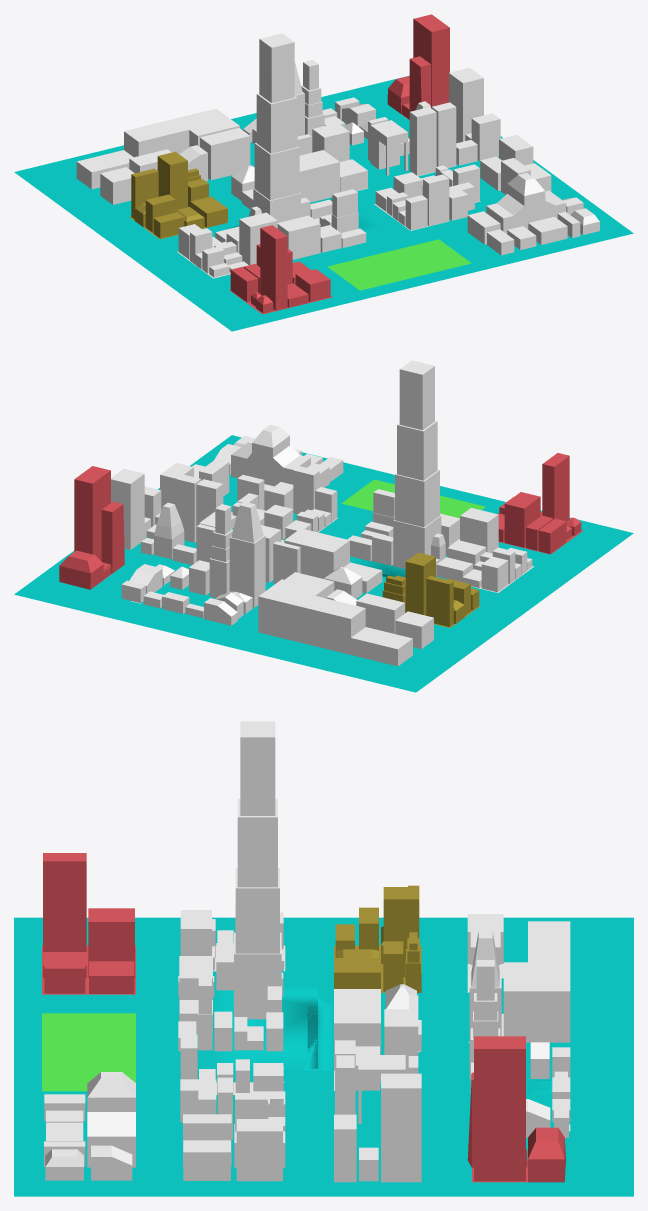
File: Experiencia1CAVE 1.fbx
The picture shows the model from 3 angles, top to bottom: view 1: azimuth 30°, elevation 25°; view 2: azimuth 150°, elevation 25°; view 3: azimuth 270°, elevation 25°; orthographic projection. The views are drawn at different scales.
Visible parts, largest first — view 1: Ciudad; view 2: Ciudad; view 3: Ciudad.
Boxes of the visible parts, left/top/right/bottom form: Ciudad: left=14, top=14, right=633, bottom=331; Ciudad: left=14, top=360, right=633, bottom=692; Ciudad: left=14, top=721, right=633, bottom=1196.
Bounding box in the file's own units: 1450 × 677 × 1361.
